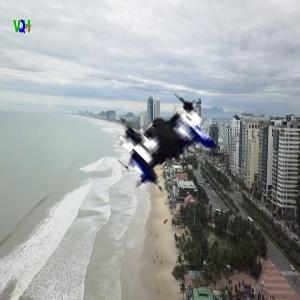drone: (108, 80, 269, 241)
